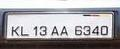0: (99, 23, 107, 35)
1: (31, 24, 38, 36)
3: (37, 23, 46, 35), (81, 24, 90, 35)
4: (90, 24, 99, 35)
6: (72, 23, 82, 35)
A: (58, 24, 68, 36), (49, 24, 59, 35)
K: (9, 24, 19, 36)
L: (18, 24, 28, 36)
